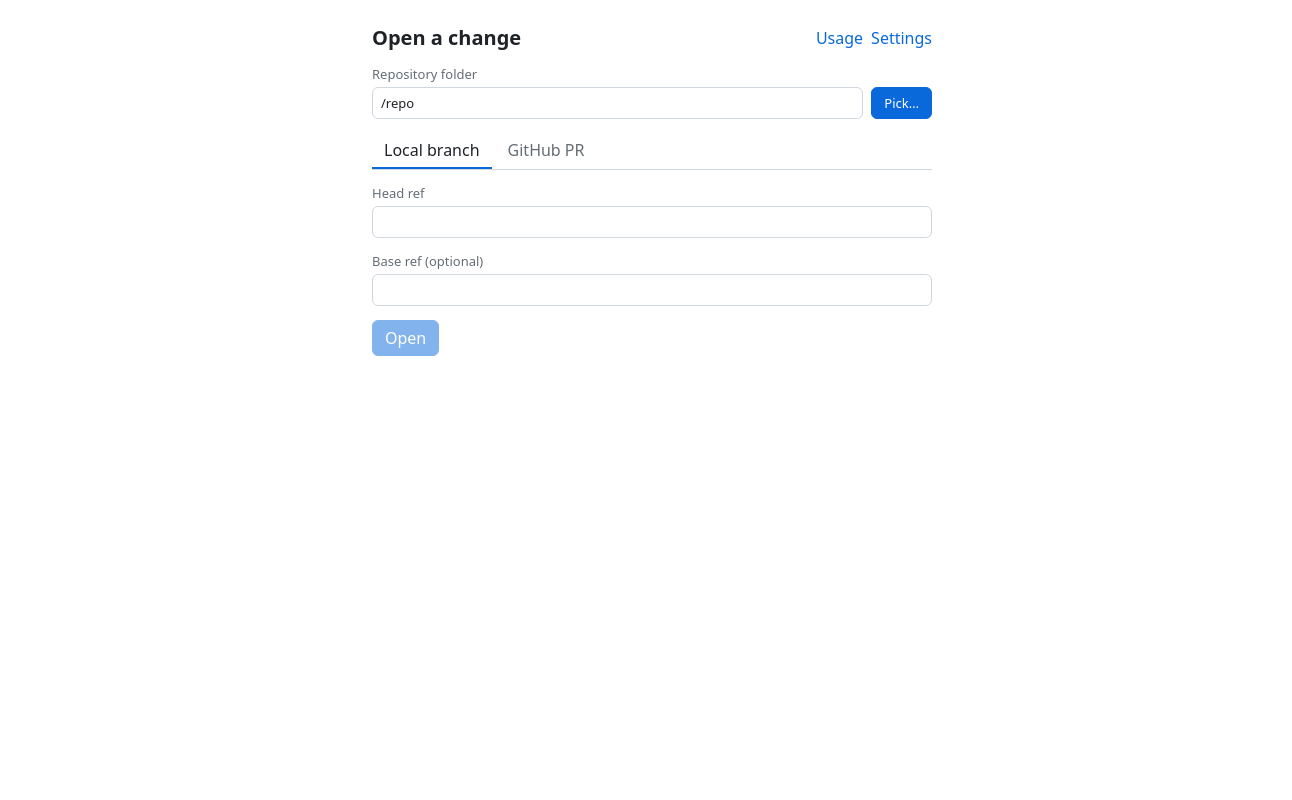
Scenario: regenerate from the walkthrough › failed regenerate reopens the review with a notice
Click the tab "GitHub PR" at (546, 151), box 496,133 -> 596,169
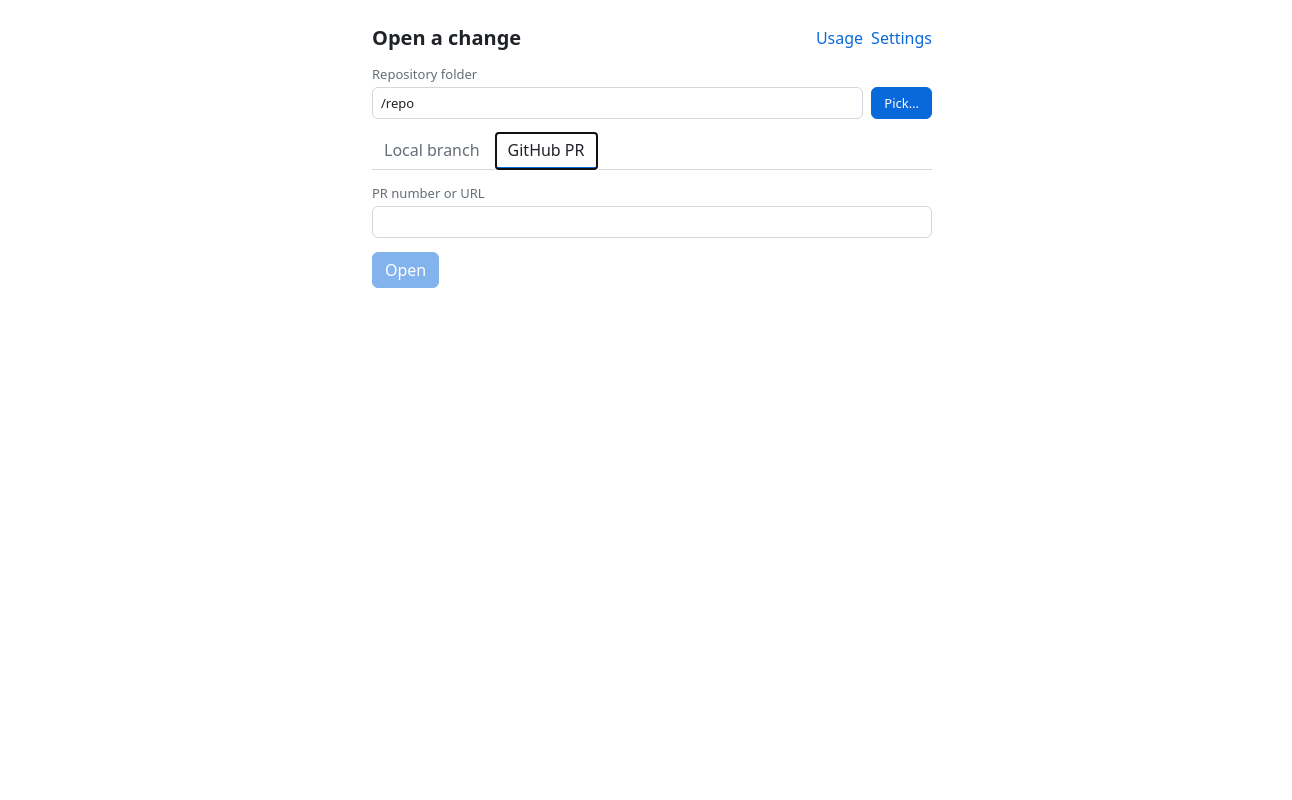
Type "7" into the field labelled "PR number or URL" at (652, 222), box 372,206 -> 932,238
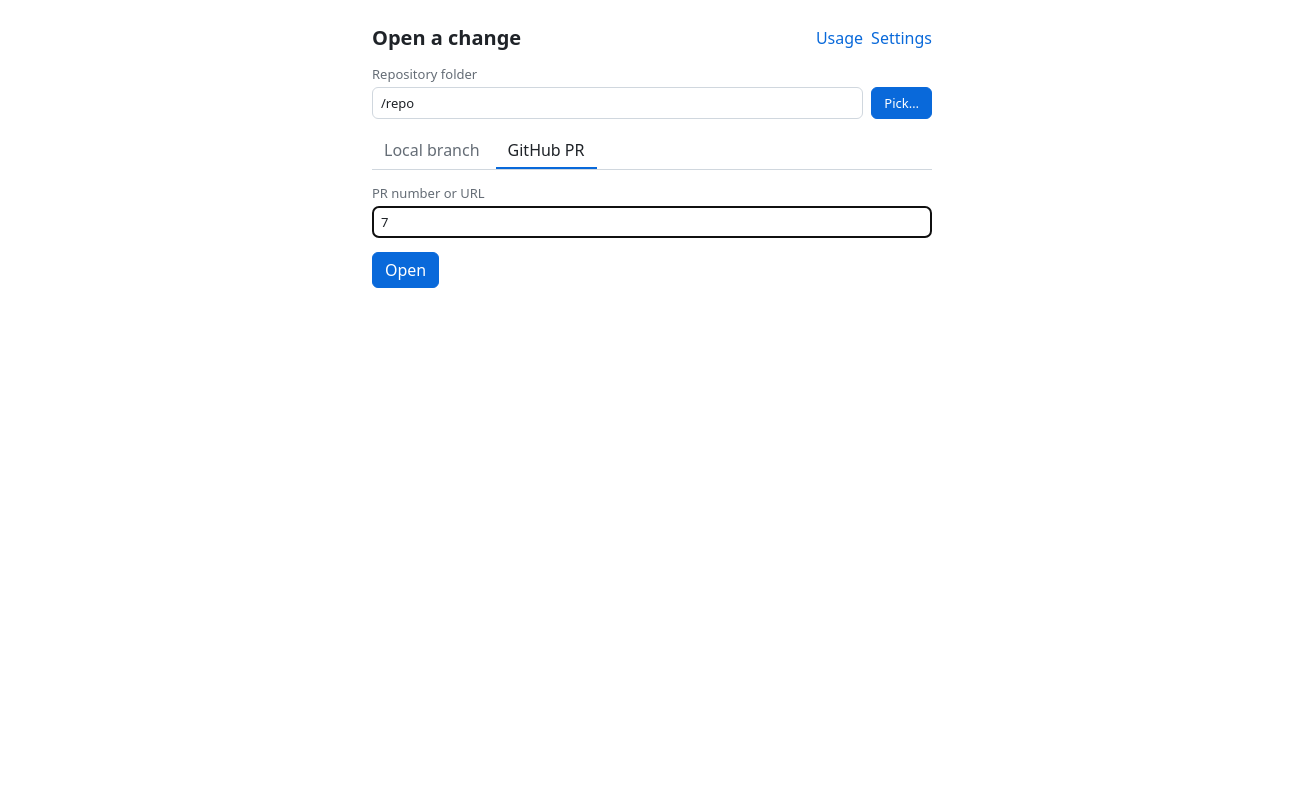
Click the button "Open" at (406, 270), box 372,252 -> 439,288
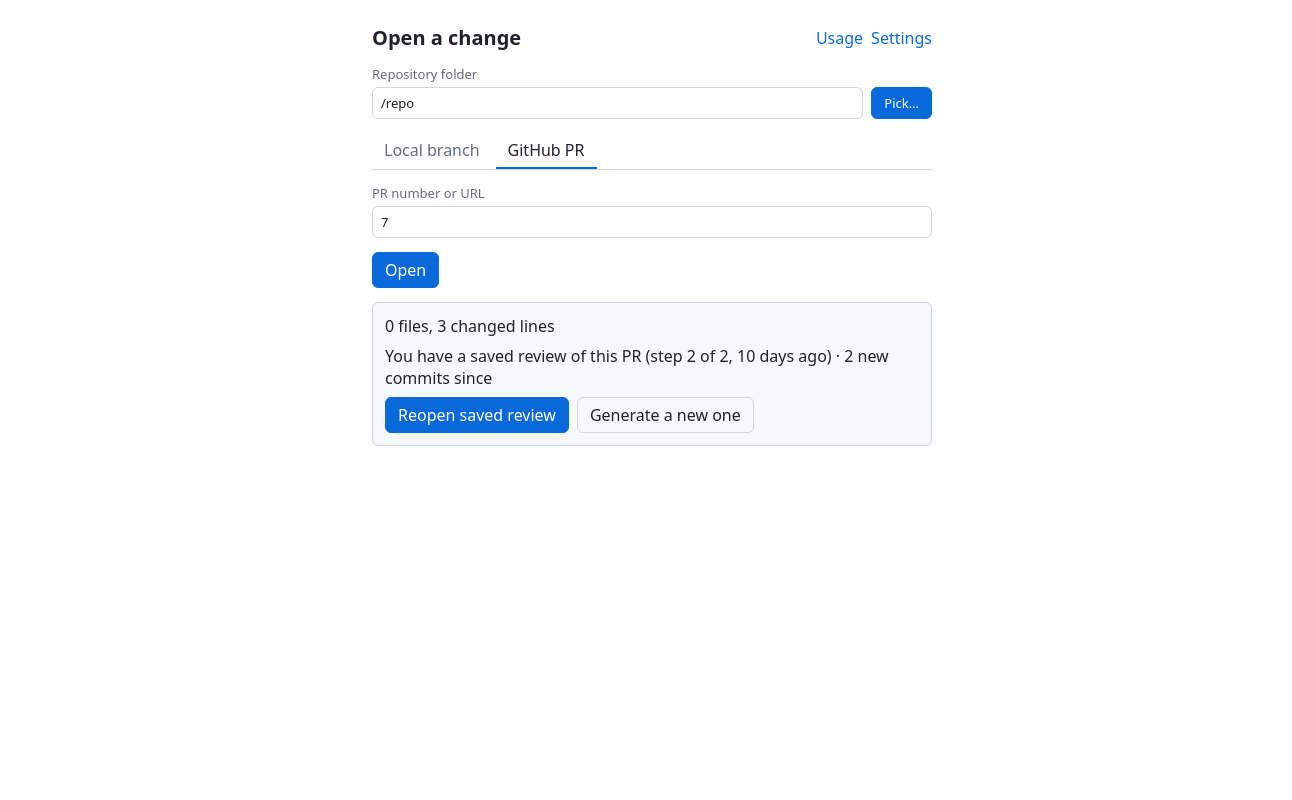
Click the button "Reopen saved review" at (477, 415), box 385,397 -> 569,433
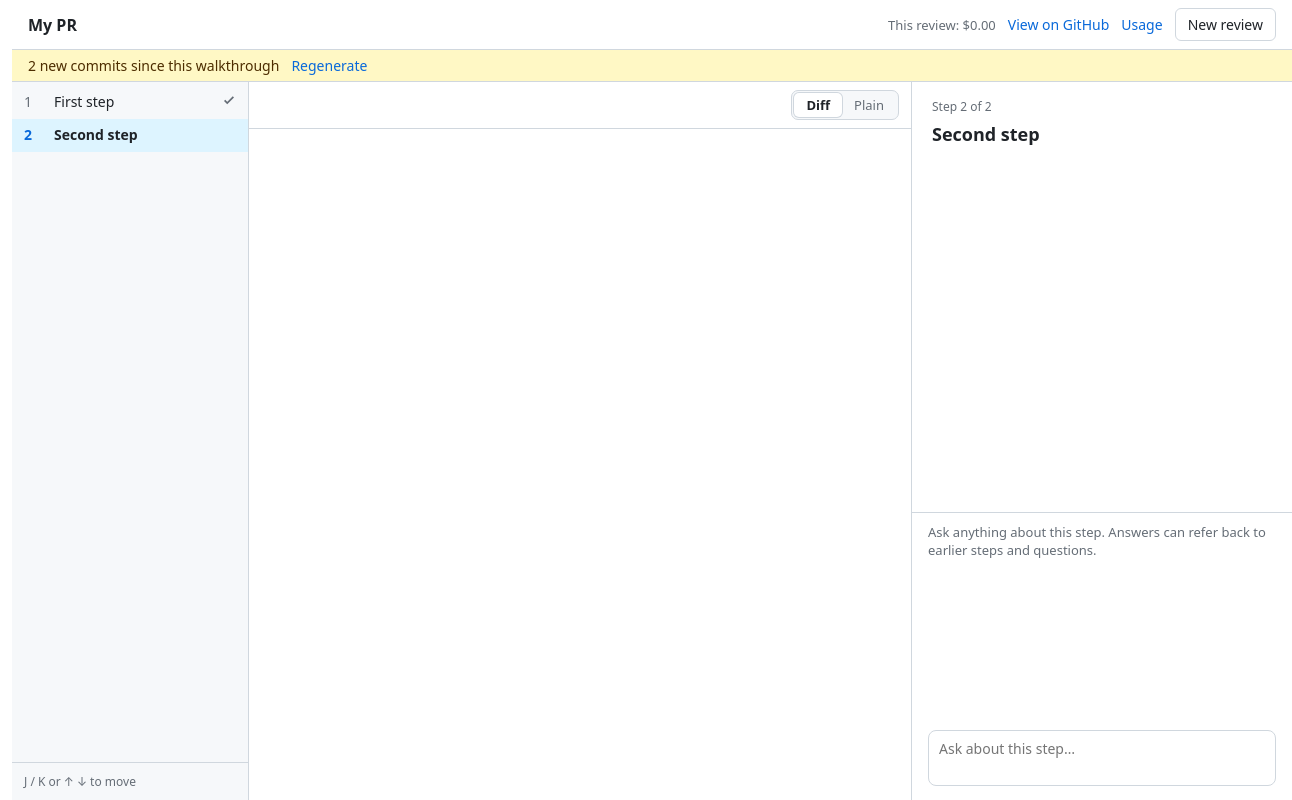
Expected: the text "2 new commits since this walkthrough" is shown, 28,56 -> 279,75
Click the button "Regenerate" at (329, 66), box 291,56 -> 367,75
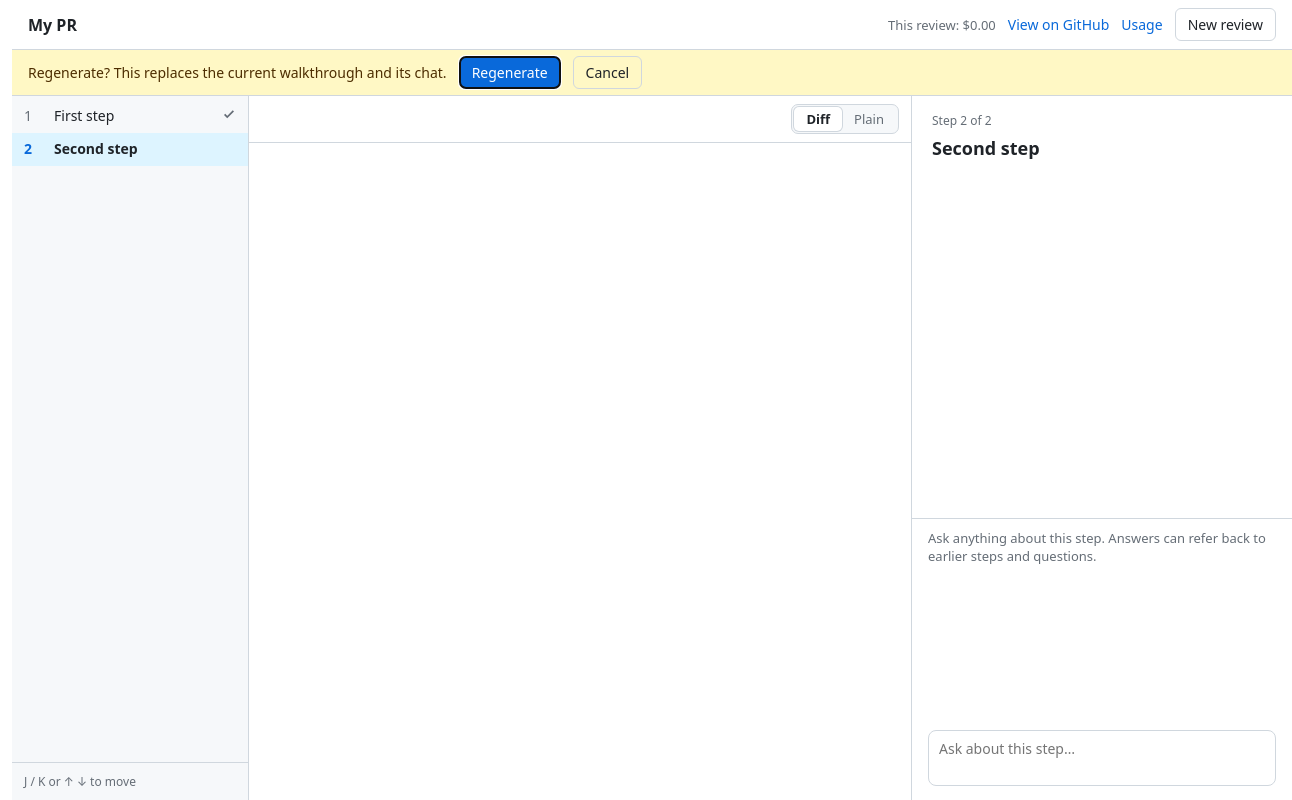
Click the button "Regenerate" at (510, 72), box 459,56 -> 561,89
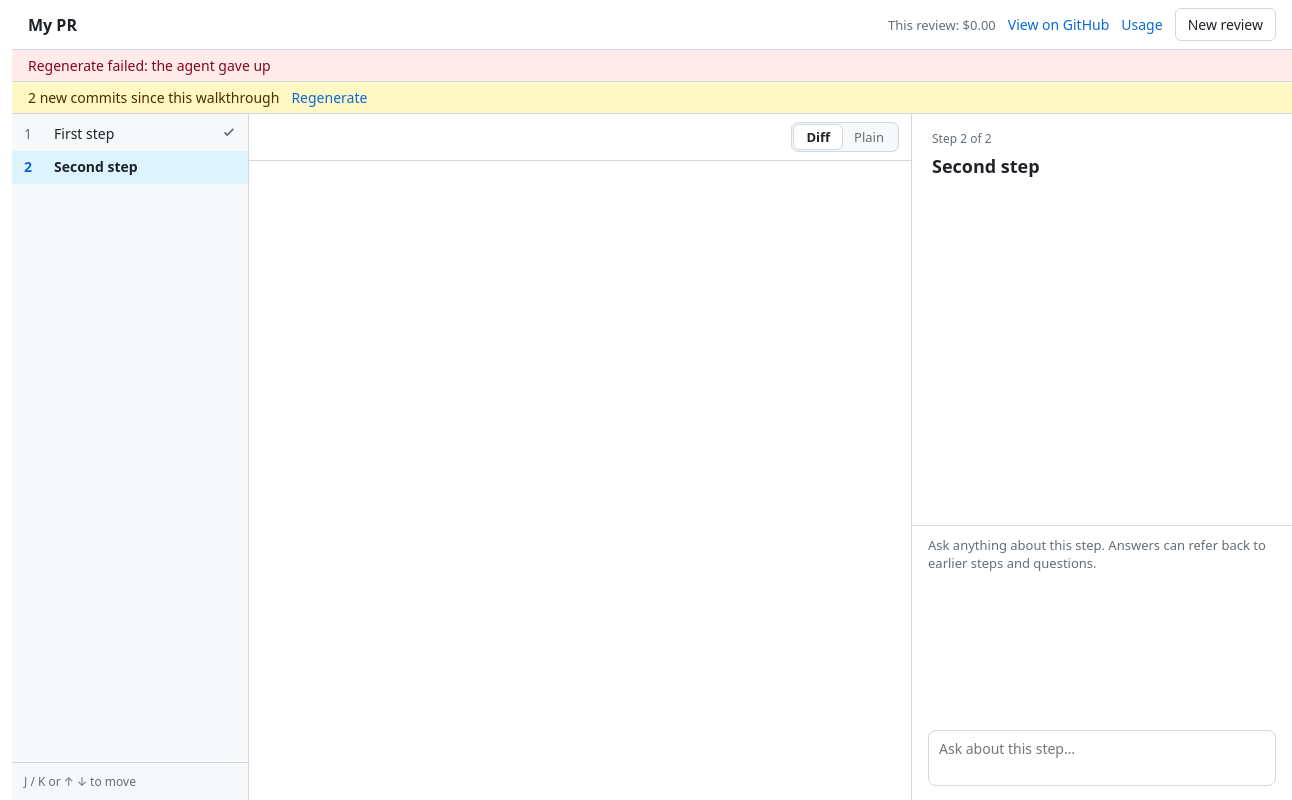
Expected: the text "Step 2 of 2" is shown, 932,130 -> 992,147
Expected: the message reads "Regenerate failed: the agent gave up", 28,56 -> 271,75
